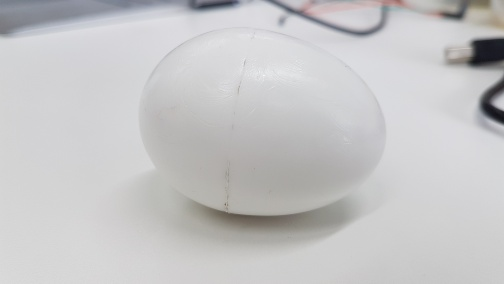egg: (138, 25, 389, 219)
